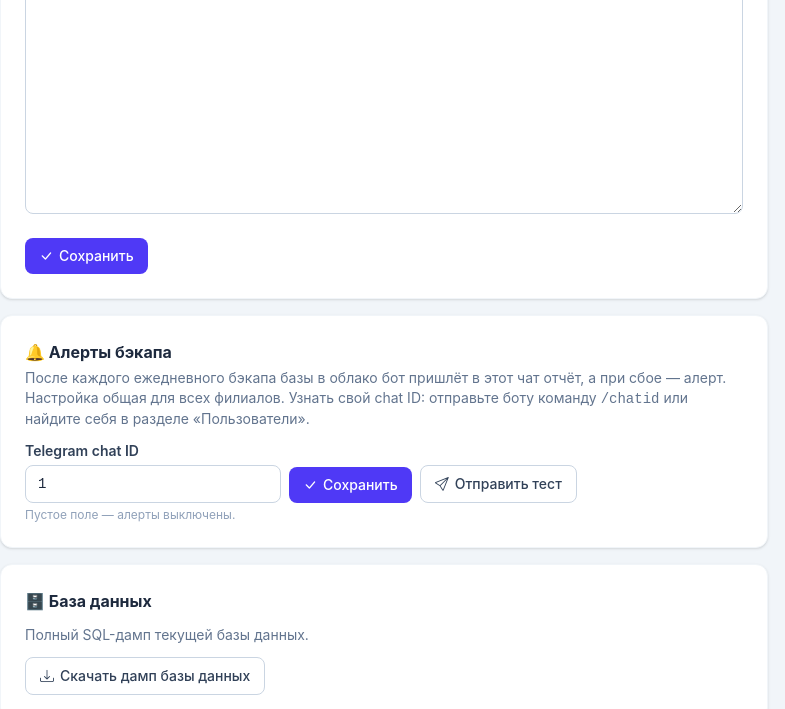
Scenario: SettingsView — алерты бэкапа › sends a test message and explains Telegram errors
This screenshot has width=785, height=709.
(page scrolled)
What coordinates should you click on to do the following:
click the button with test id "alert-test"
I would click on:
 (498, 484)
Its box is [420,465,577,503].
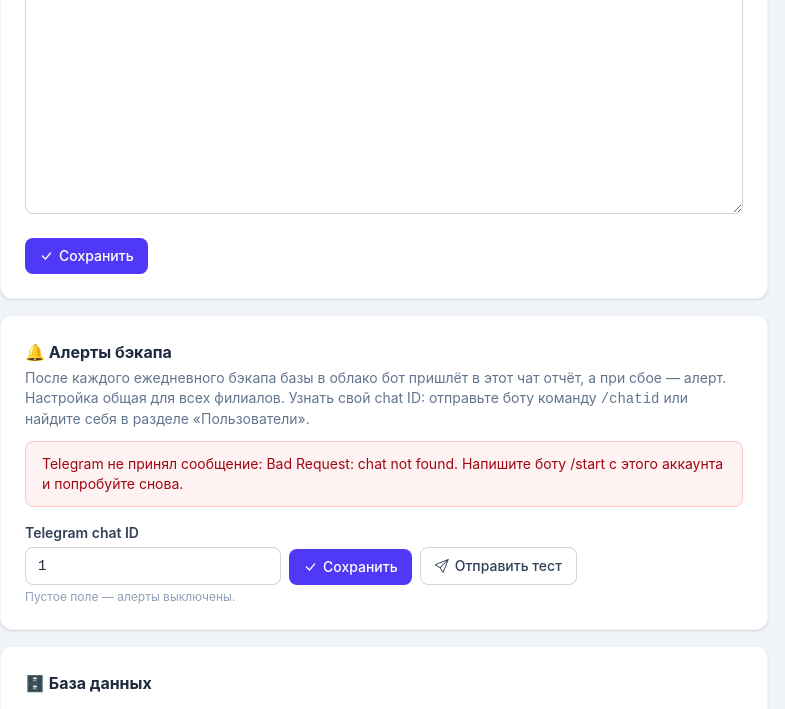
expect the text with test id "alert-msg" shows "chat not found": met, box [42,455,723,492]
expect the text with test id "alert-msg" shows "/start": met, box [42,455,723,492]
